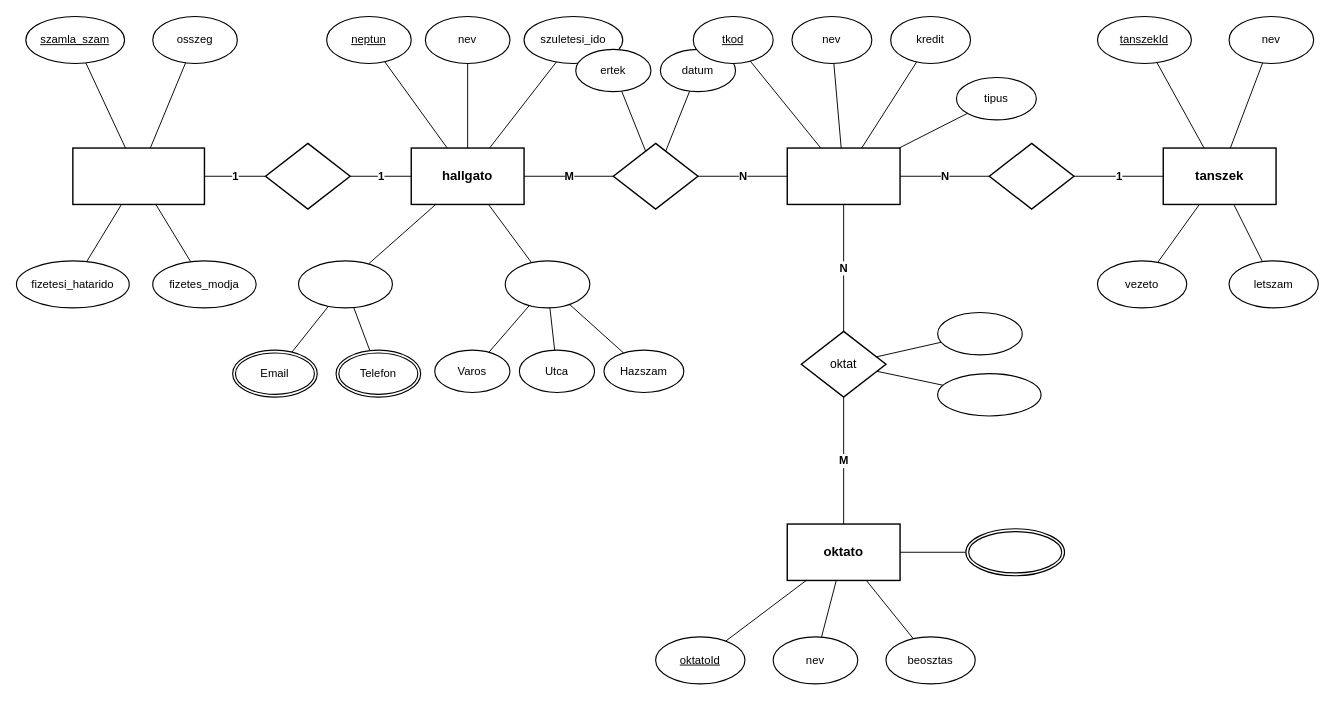
This 1336x701 diagram has some shape labels left out. Each missing label, with the centre of its shape:
"befizet" goes at [307,175].
"Cim" goes at [547,284].
"Elerhetoseg" goes at [345,284].
"felev" goes at [979,333].
"gondoz" goes at [1031,175].
"jegy" goes at [655,175].
"Koltsegterites" goes at [138,176].
"orarendi_nap" goes at [989,394].
"szakirany" goes at [1015,552].
"tantargy" goes at [843,176].
